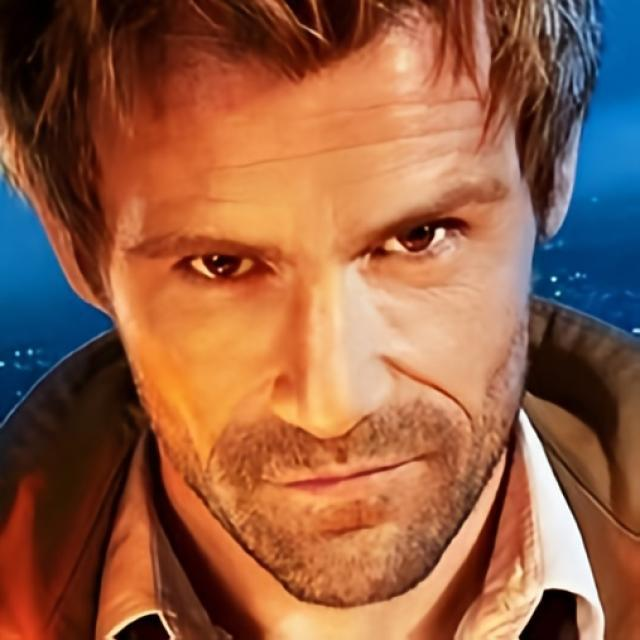content: (108, 28, 542, 610)
